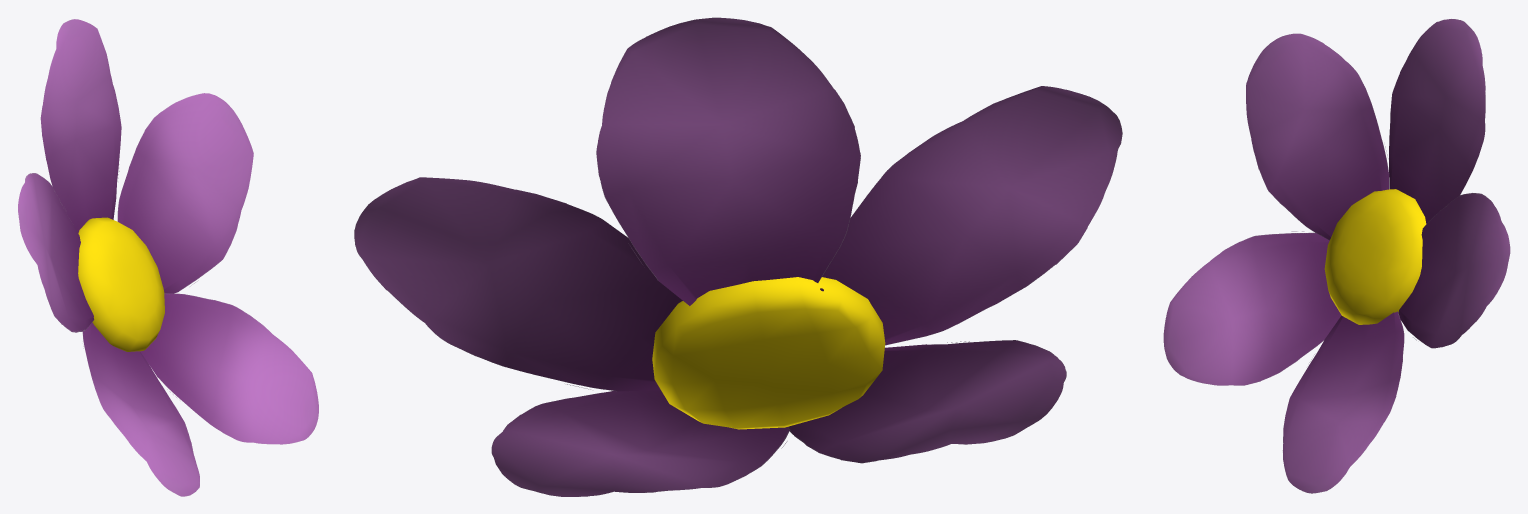
Rendered from Flowers-C.fbx.
3 views of the same model, side by side, from view 1: azimuth 30°, elevation 25°; view 2: azimuth 150°, elevation 25°; view 3: azimuth 270°, elevation 25° (orthographic). The views are drawn at different scales.
Parts seen in each view (by area): view 1: Flowers-C; view 2: Flowers-C; view 3: Flowers-C.
Part boxes in pixels (left/top/right/bottom): Flowers-C: left=18, top=19, right=318, bottom=496; Flowers-C: left=354, top=17, right=1122, bottom=496; Flowers-C: left=1163, top=19, right=1510, bottom=493.
Size of the model in its own units: 13.56 by 14.63 by 11.83.
